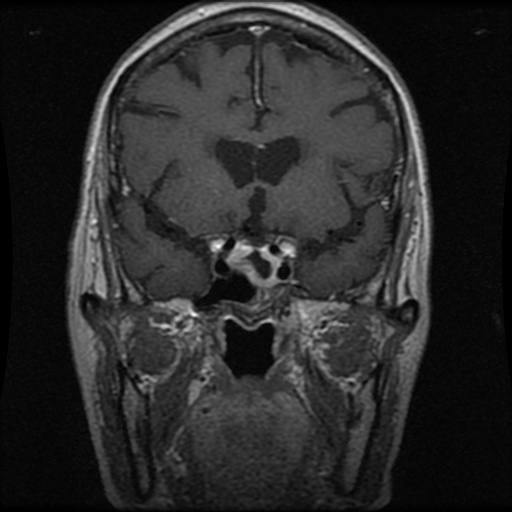pituitary: (201, 233, 295, 287)
